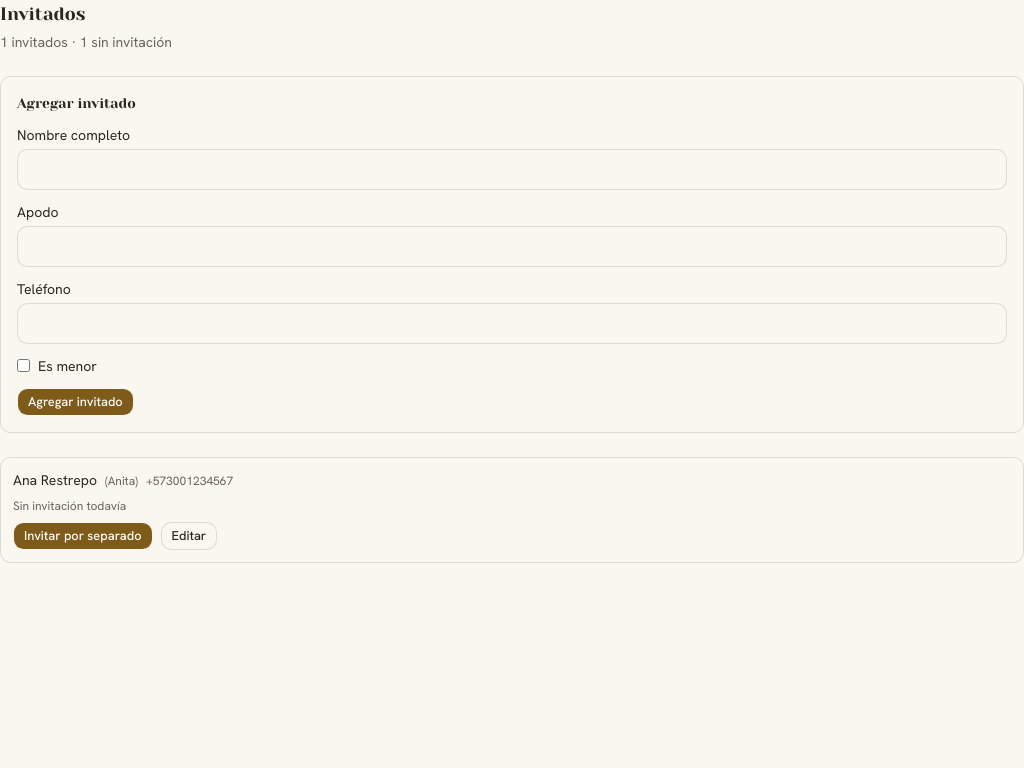
GuestDirectory › opens an editor holding what is already stored
The width and height of the screenshot is (1024, 768).
Step 1. Click the button "Editar" → (189, 536), box x1=161 y1=522 x2=217 y2=550
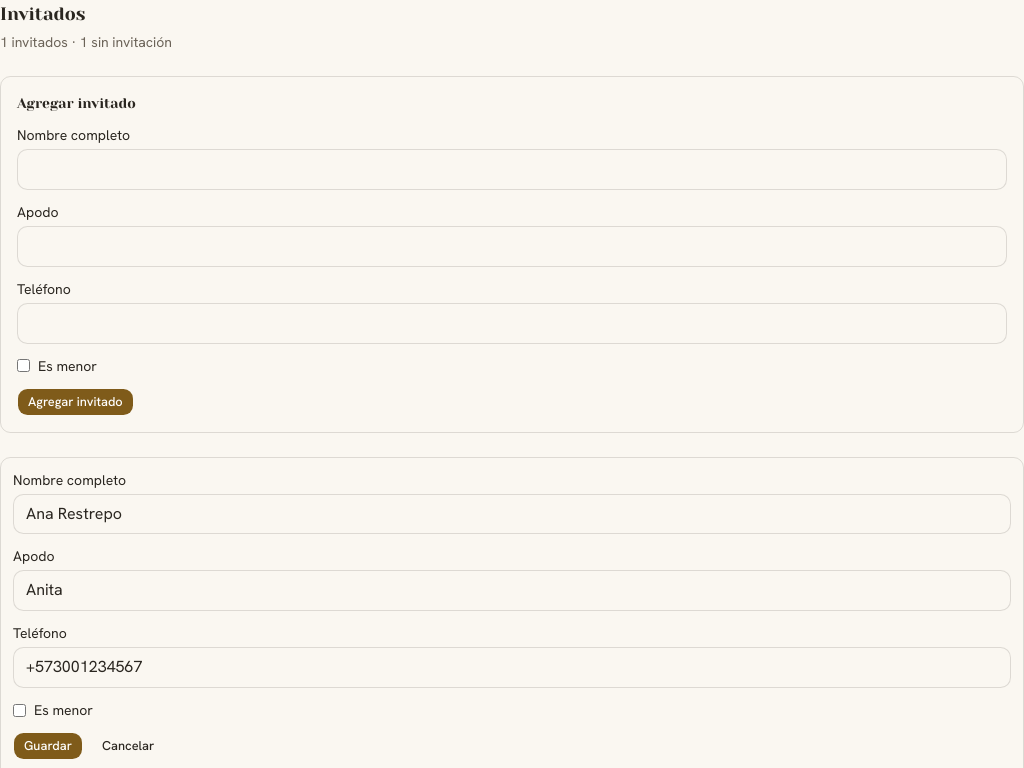
Expected: the 2nd field labelled "Nombre completo" holds "Ana Restrepo", x1=13 y1=494 x2=1011 y2=534
Expected: the 2nd field labelled "Apodo" holds "Anita", x1=13 y1=570 x2=1011 y2=611
